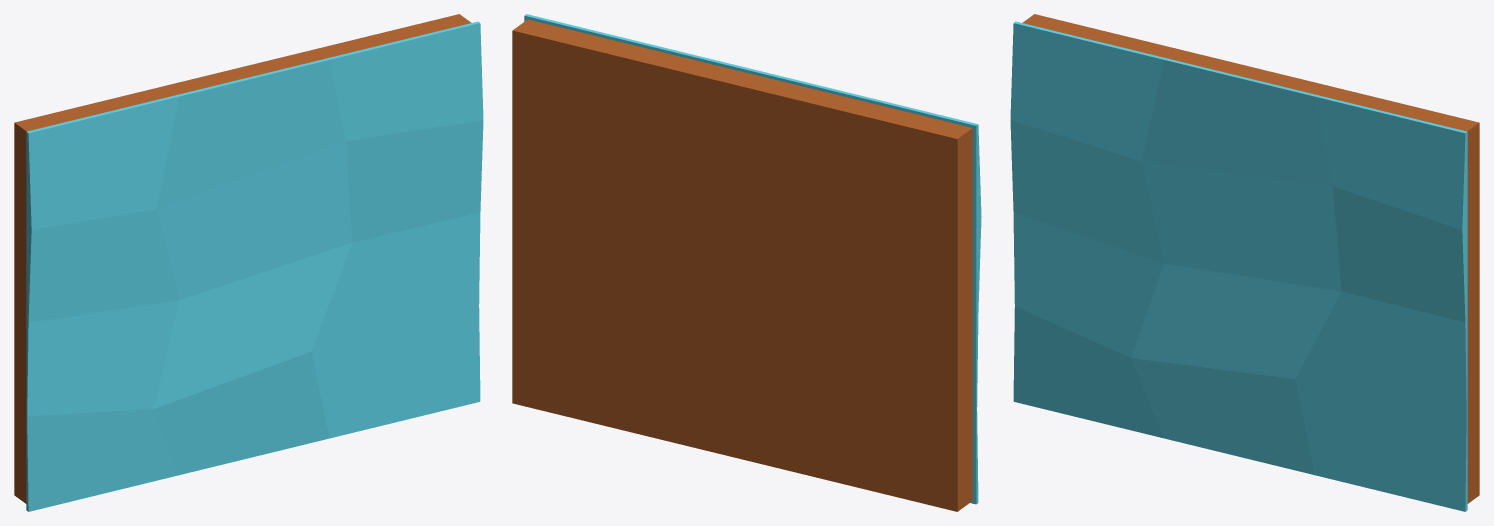
File: water.gltf
3 renders of one model, left to right at view 1: azimuth 30°, elevation 25°; view 2: azimuth 150°, elevation 25°; view 3: azimuth 330°, elevation 25°, orthographic.
Visible parts, largest first — view 1: Cube.007, Cube; view 2: Cube, Cube.007; view 3: Cube.007, Cube.
Part boxes in pixels (left/top/right/bottom): Cube.007: left=26, top=21, right=483, bottom=511; Cube: left=14, top=14, right=471, bottom=503; Cube: left=512, top=19, right=972, bottom=511; Cube.007: left=524, top=14, right=981, bottom=504; Cube.007: left=1010, top=21, right=1467, bottom=511; Cube: left=1022, top=14, right=1479, bottom=503.
Size of the model in its own units: 2.03 by 1.63 by 0.1657.
